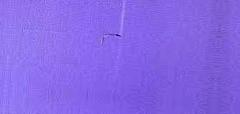snag: (98, 30, 125, 48)
